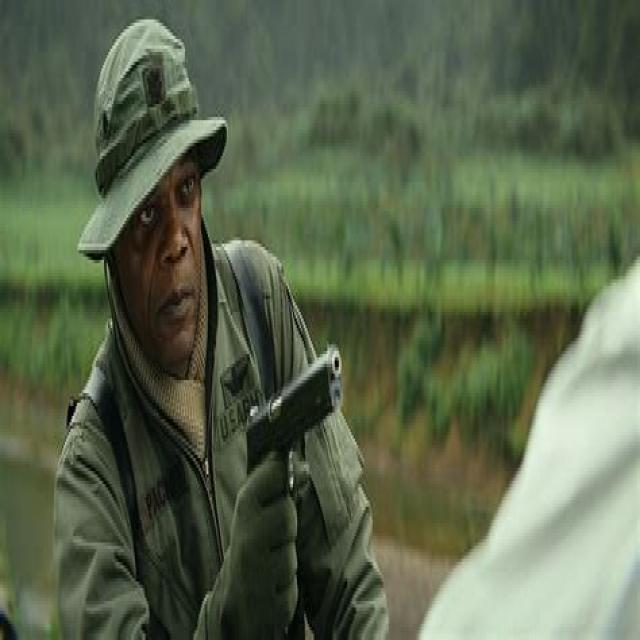weapons: (240, 320, 346, 592)
